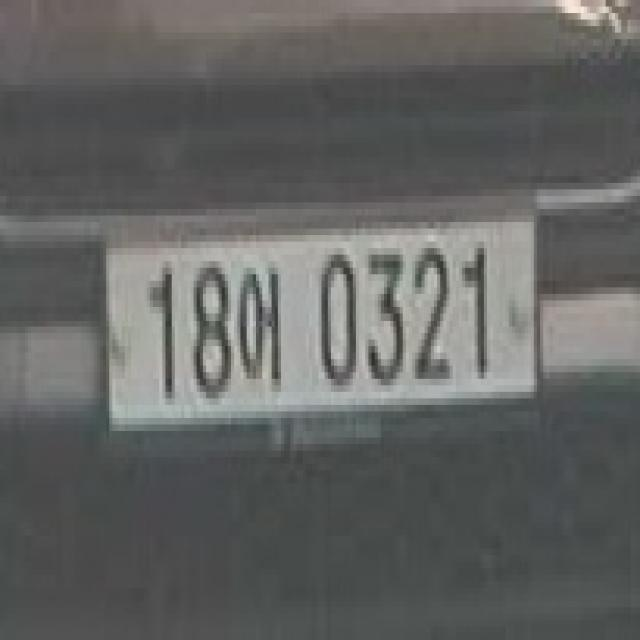0: (315, 242, 362, 398)
1: (456, 229, 502, 385), (141, 255, 181, 418)
2: (409, 235, 456, 398)
3: (359, 242, 409, 398)
8: (187, 255, 234, 411)
eo: (237, 262, 284, 398)
license_plate: (94, 183, 546, 470)
